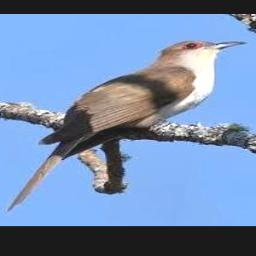Cuckoo: (7, 41, 246, 211)
